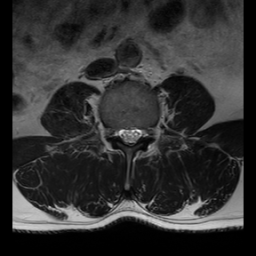CCS_normal: (126, 122, 134, 150)
LFS_normal: (142, 121, 149, 143)
LLS_normal: (134, 121, 141, 145)
RFS_normal: (111, 121, 118, 144)
RLS_normal: (118, 121, 126, 144)
